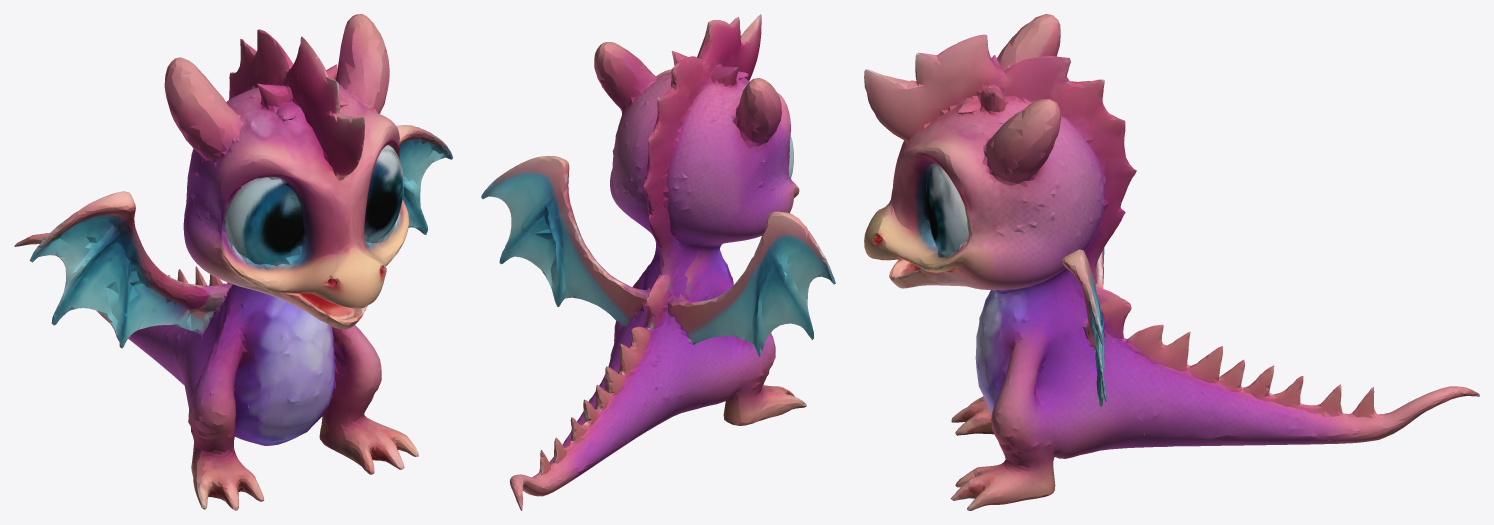
Rendered from crystal-dragon.glb.
3 renders of one model, left to right at view 1: azimuth 30°, elevation 25°; view 2: azimuth 150°, elevation 25°; view 3: azimuth 270°, elevation 25°, orthographic. The views are drawn at different scales.
Visible parts, largest first — view 1: CrystalDragon; view 2: CrystalDragon; view 3: CrystalDragon.
Boxes of the visible parts, bbox=[...] form: CrystalDragon: bbox=[14, 14, 452, 510]; CrystalDragon: bbox=[481, 14, 835, 510]; CrystalDragon: bbox=[864, 14, 1479, 510].
Bounding box in the file's own units: 1.44 × 1.44 × 1.88.
Materials: 1 (1 with a texture image).
